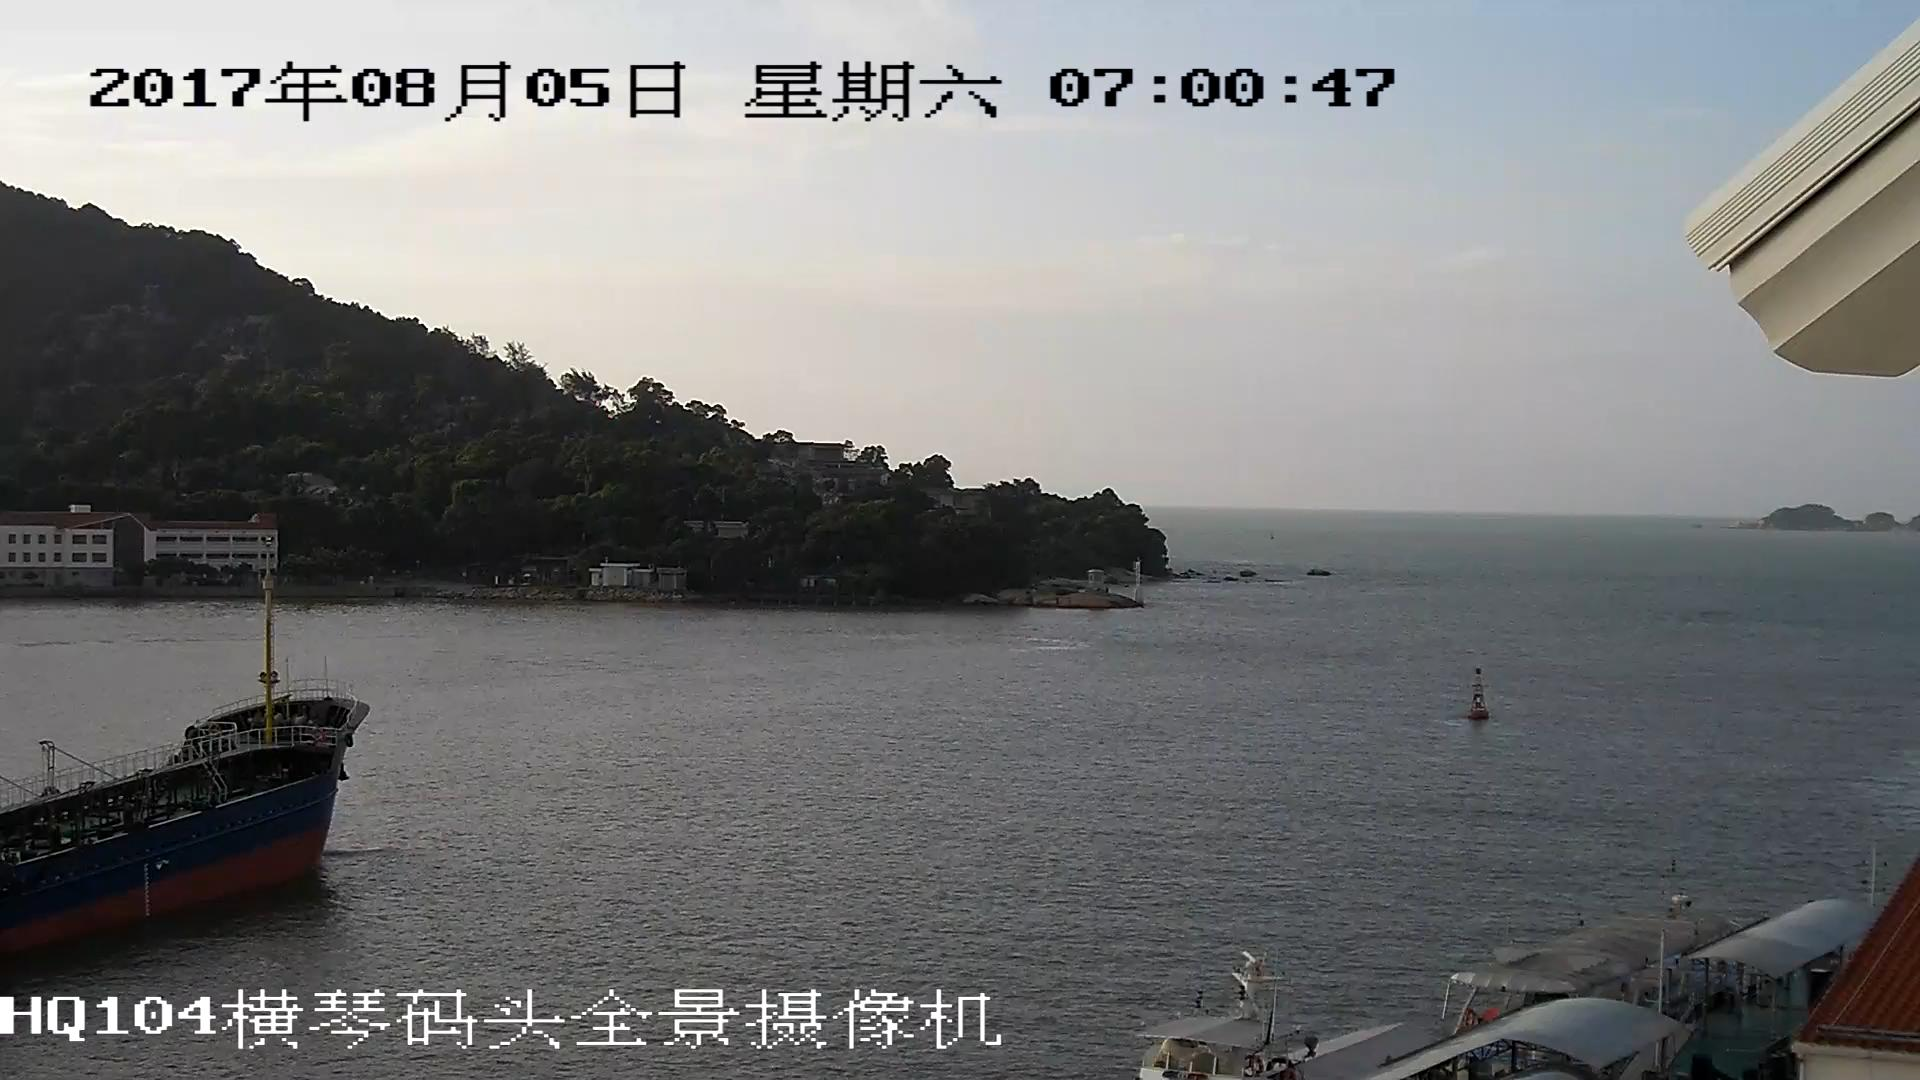general cargo ship: (1, 572, 355, 981)
